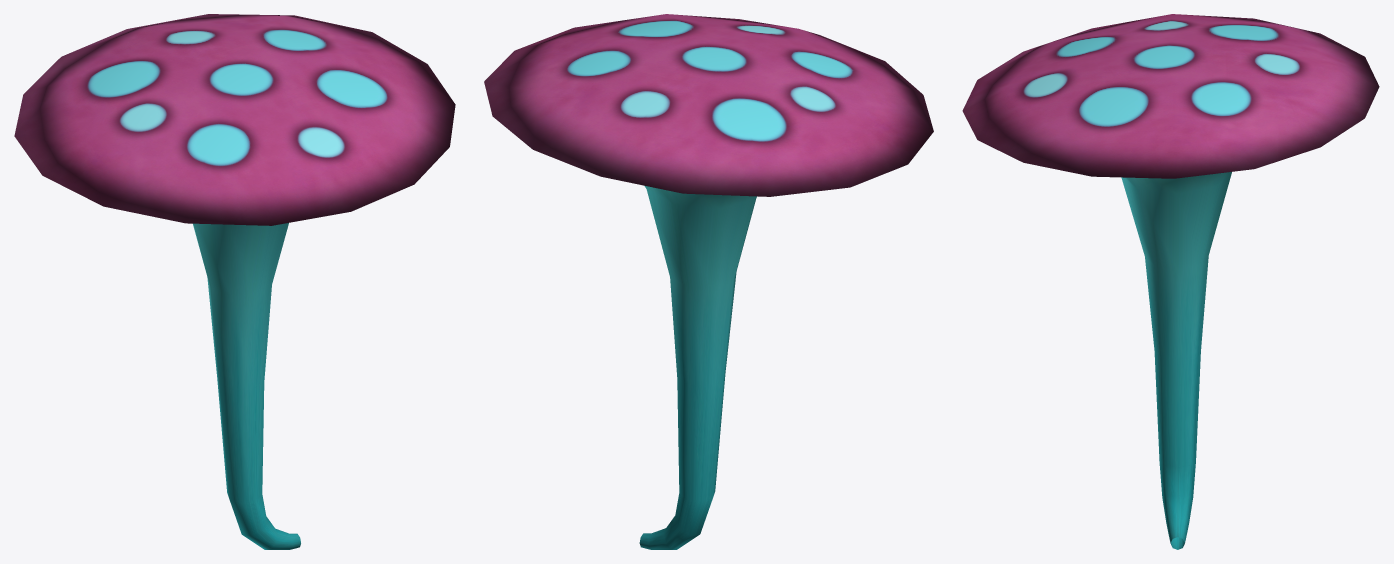
File: Mushroom_Curved3_Pink.fbx
3 renders of one model, left to right at view 1: azimuth 30°, elevation 25°; view 2: azimuth 150°, elevation 25°; view 3: azimuth 270°, elevation 25°, orthographic. The views are drawn at different scales.
Visible parts, largest first — view 1: Mesh; view 2: Mesh; view 3: Mesh.
Boxes of the visible parts, left/top/right/bottom form: Mesh: left=14, top=14, right=455, bottom=549; Mesh: left=484, top=14, right=933, bottom=549; Mesh: left=962, top=14, right=1379, bottom=549.
Size of the model in its own units: 92.29 by 112 by 91.02.
